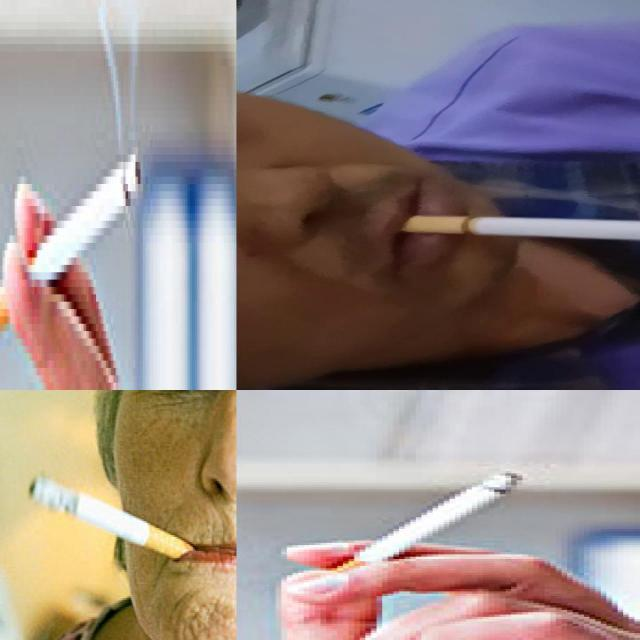cigarette: (0, 150, 141, 333), (310, 471, 526, 586), (26, 473, 198, 561), (398, 216, 639, 244)
